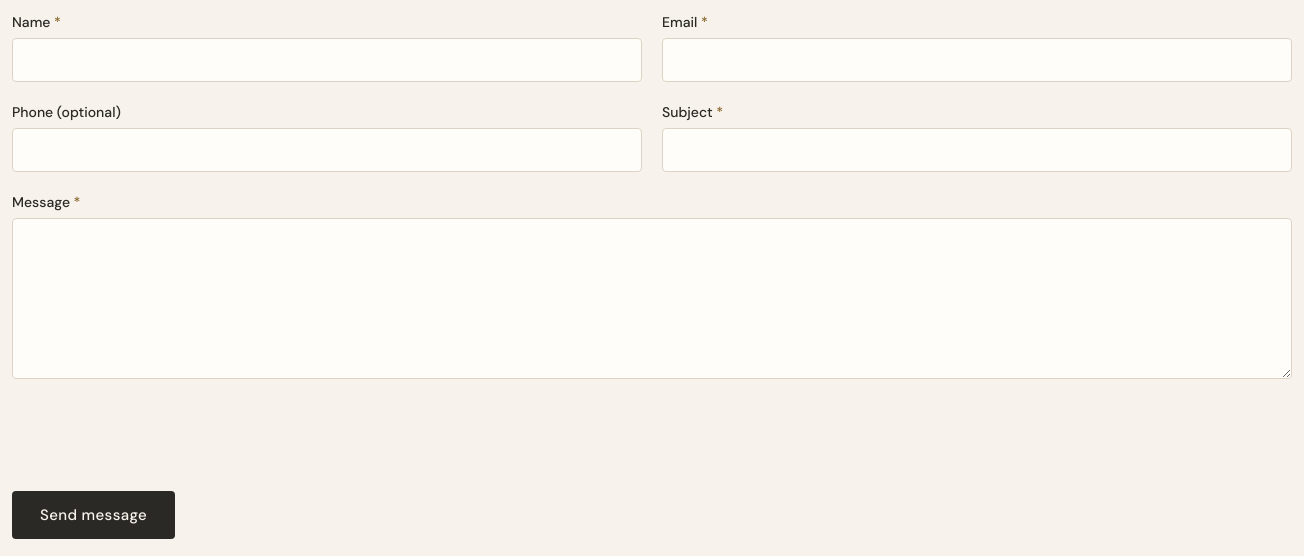
Test: ContactForm › submits valid values and shows a confirmation
In the field labelled "Name *": (327, 60) left=12, top=38, right=642, bottom=82, type "Rahul Mehta"
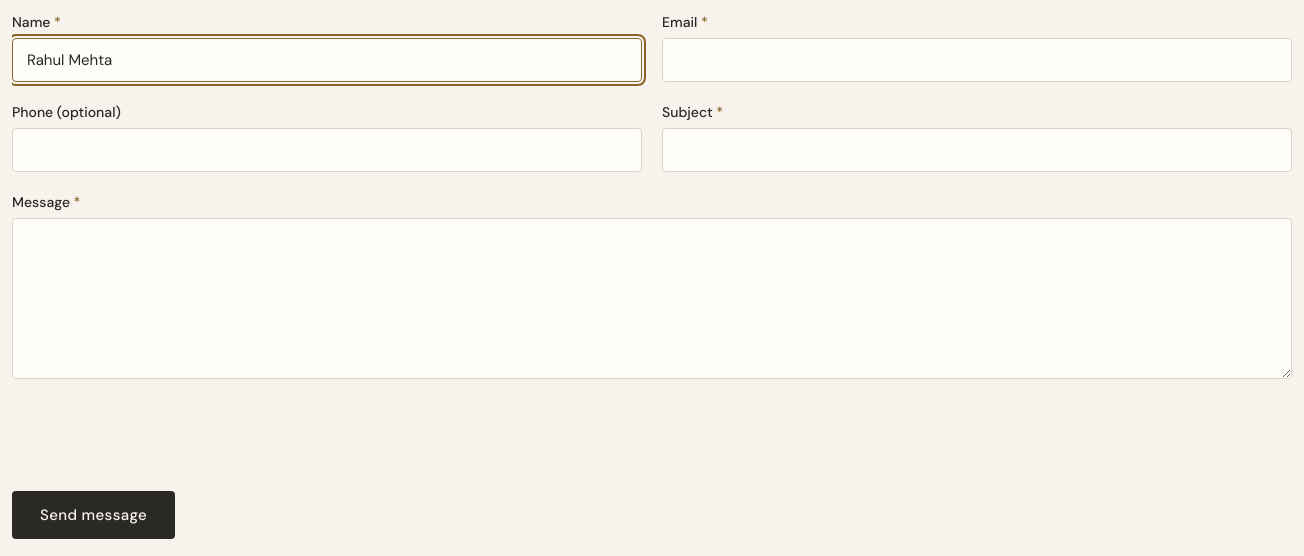
In the field labelled "Email *": (977, 60) left=662, top=38, right=1292, bottom=82, type "rahul@example.com"
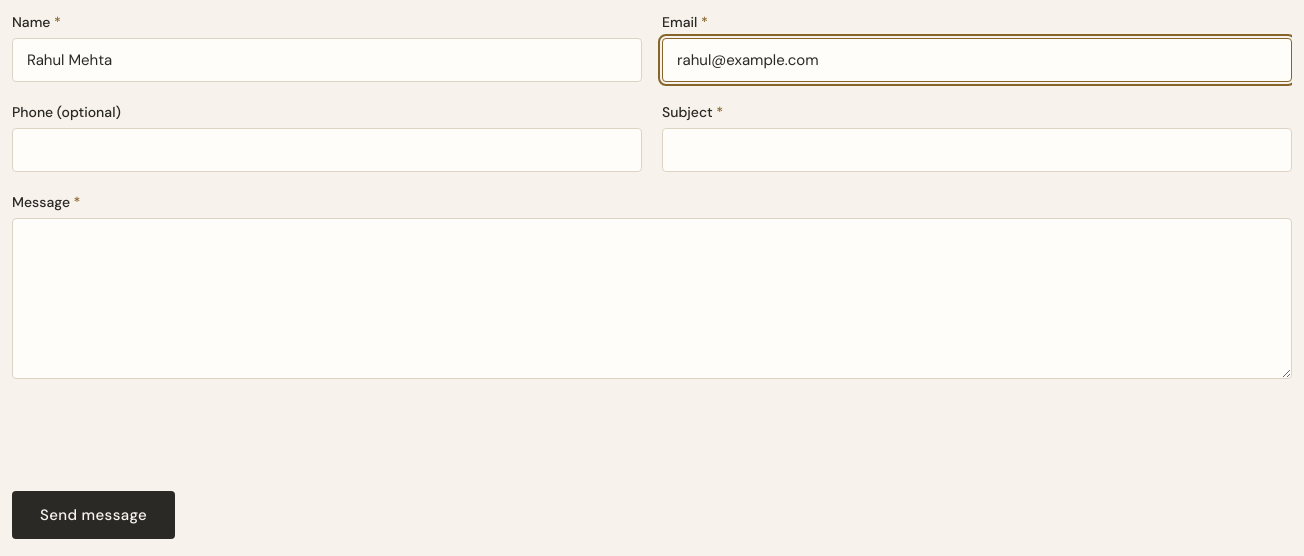
In the field labelled "Subject *": (977, 150) left=662, top=128, right=1292, bottom=172, type "Press enquiry"
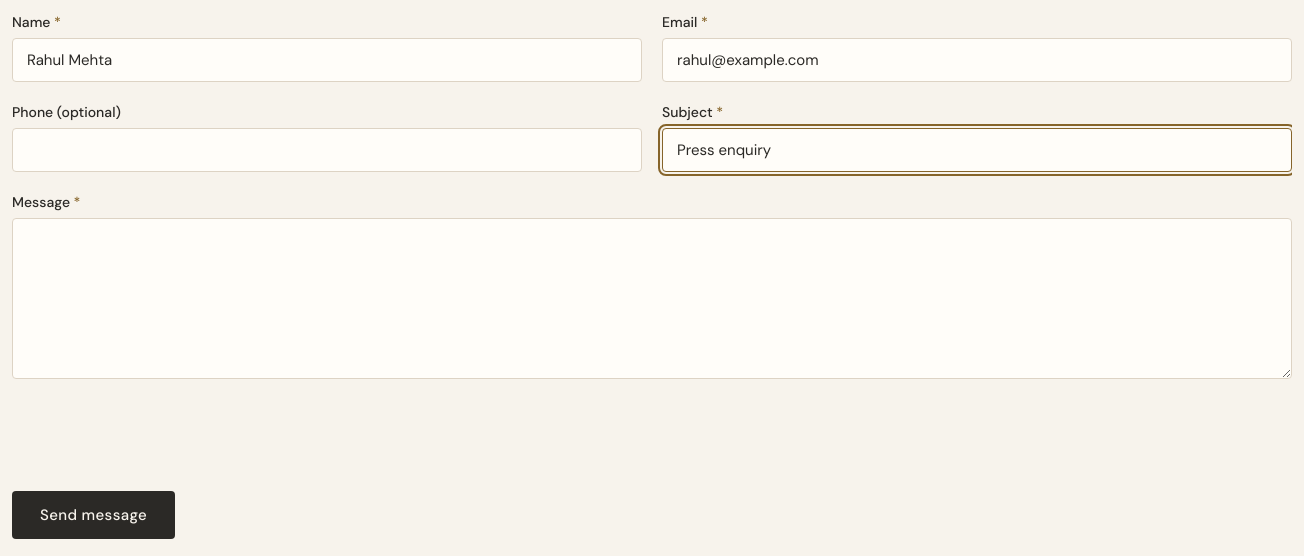
In the text box labelled "Message *": (652, 298) left=12, top=218, right=1292, bottom=379, type "I would like to feature one of your projects in our next issue."
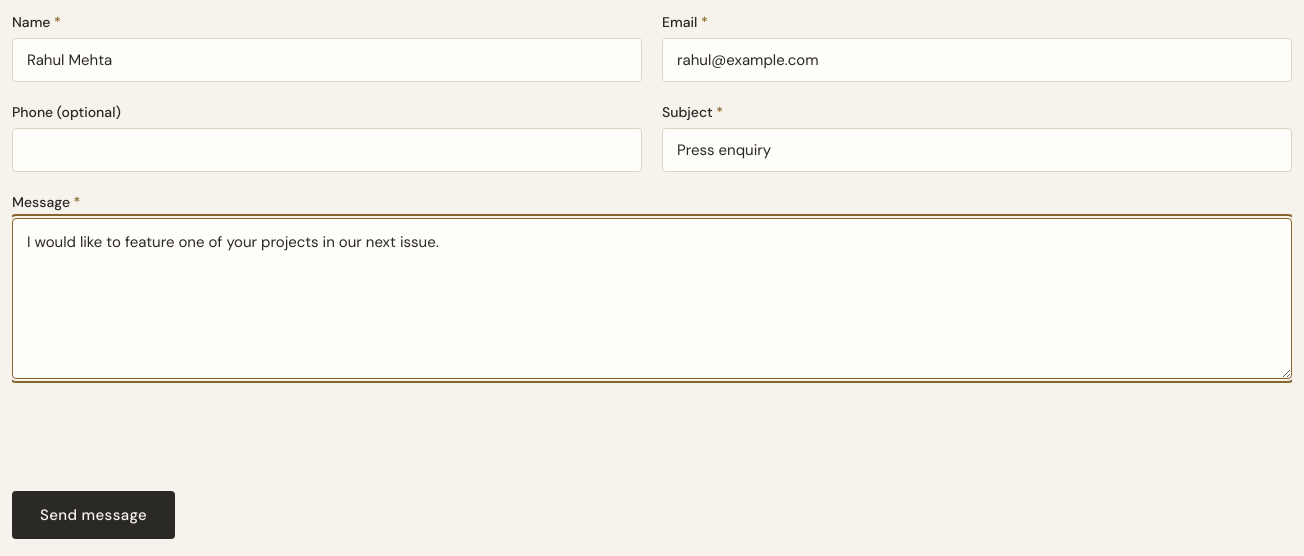
Click the button "Send message": (94, 515) left=12, top=491, right=175, bottom=539
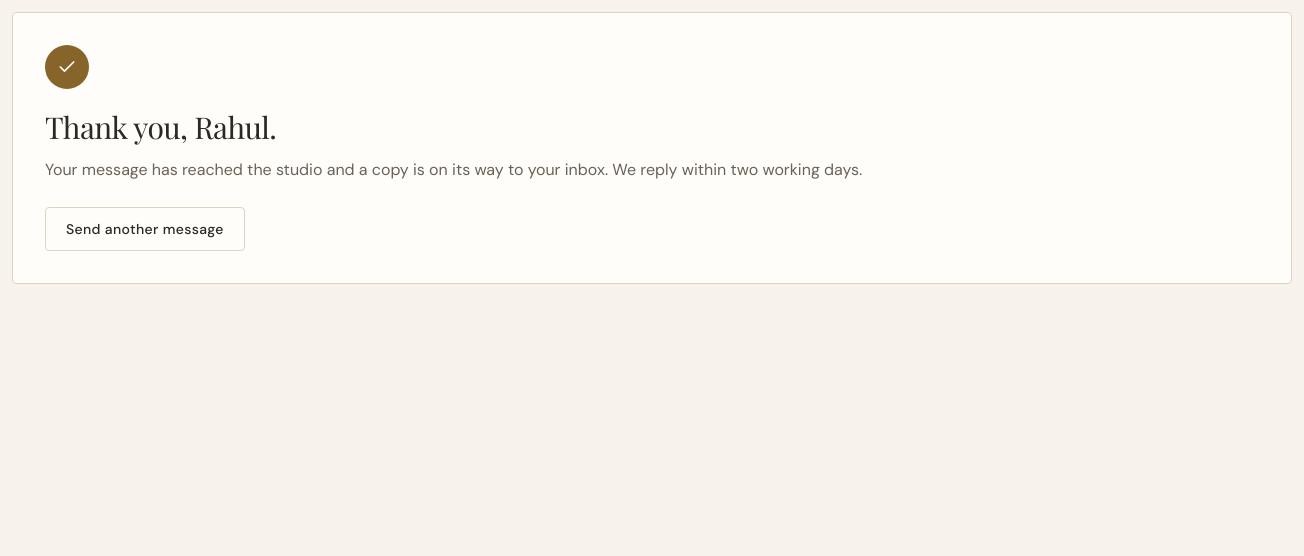
Result: the heading "Thank you, Rahul." is shown at left=45, top=107, right=276, bottom=147
Result: the text "copy is on its way" is shown at left=322, top=159, right=605, bottom=180
